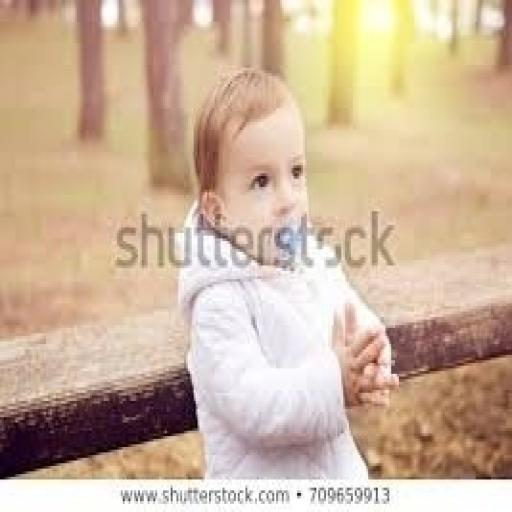clapping: (174, 65, 399, 480)
